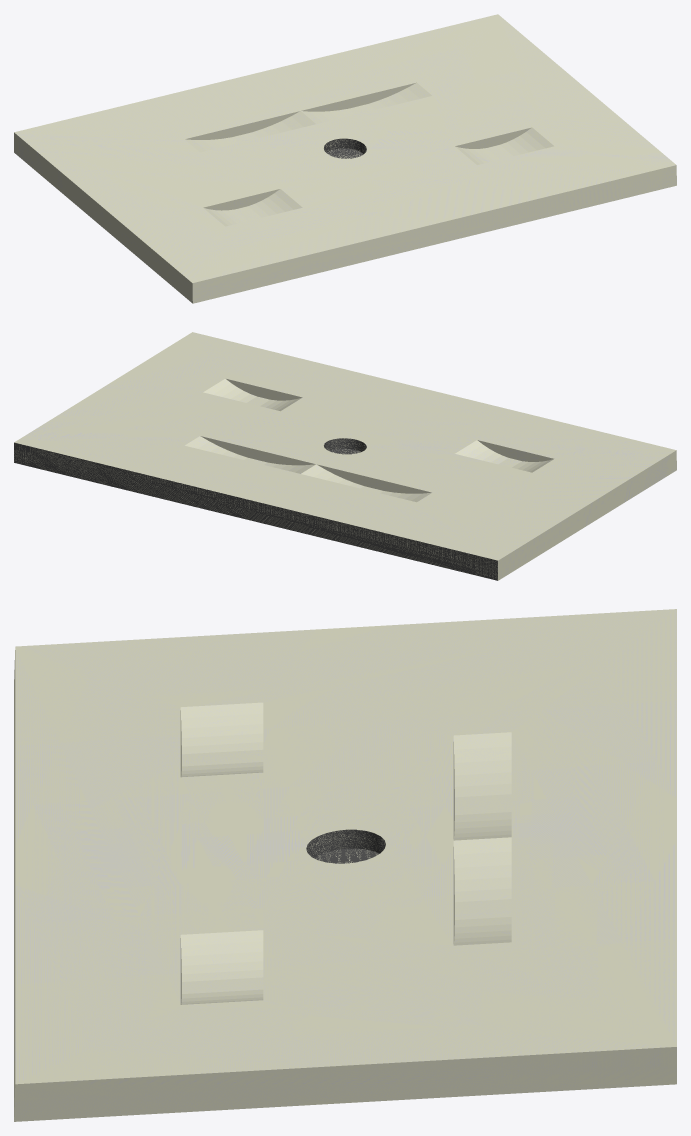
The model's file is original-5.obj.
The picture shows the model from 3 angles, top to bottom: view 1: azimuth 30°, elevation 25°; view 2: azimuth 150°, elevation 25°; view 3: azimuth 270°, elevation 25°; orthographic projection. The views are drawn at different scales.
Visible parts, largest first — view 1: Group5/mesh7/mesh7-geometry#mesh7-geometry; view 2: Group5/mesh7/mesh7-geometry#mesh7-geometry; view 3: Group5/mesh7/mesh7-geometry#mesh7-geometry.
Boxes of the visible parts, box(x1,y1,x2,y2) form: Group5/mesh7/mesh7-geometry#mesh7-geometry: box(14, 14, 676, 303); Group5/mesh7/mesh7-geometry#mesh7-geometry: box(14, 332, 676, 580); Group5/mesh7/mesh7-geometry#mesh7-geometry: box(14, 609, 676, 1121).
Bounding box in the file's own units: 0.4024 × 0.0322 × 0.2575.
